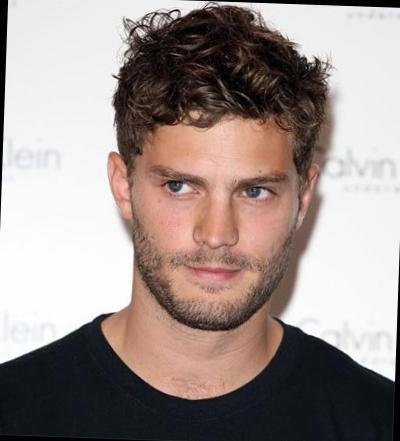Sober: (138, 115, 289, 328)
